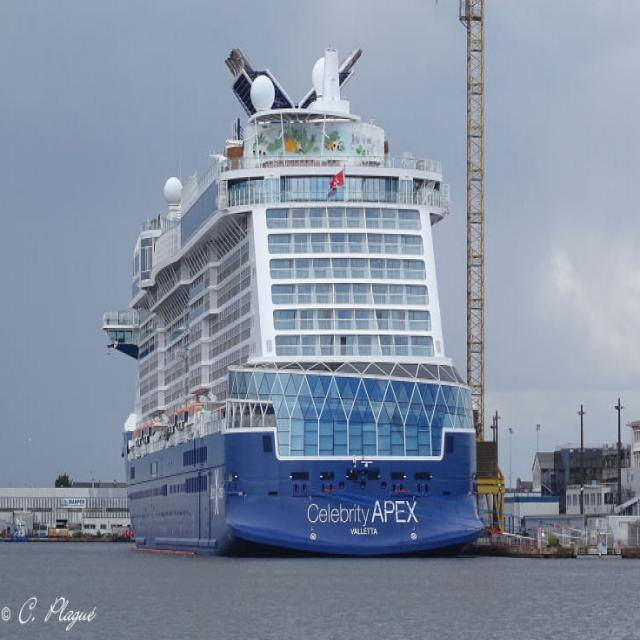cruises: (99, 35, 488, 571)
